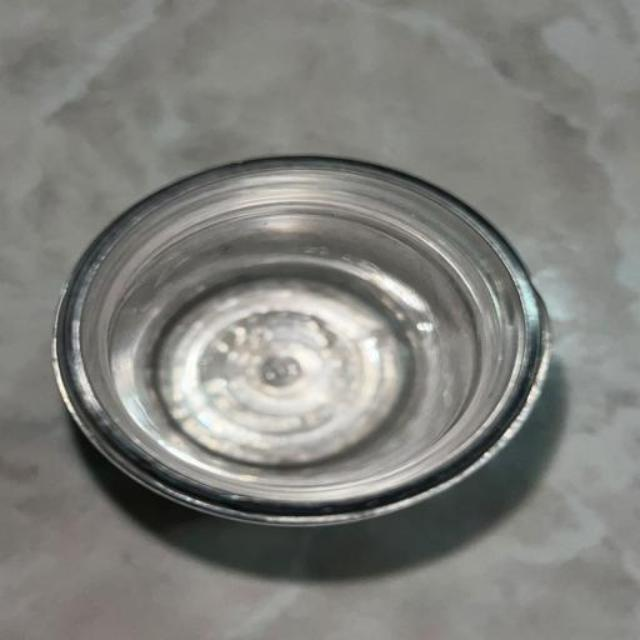PET: (7, 50, 624, 640)
